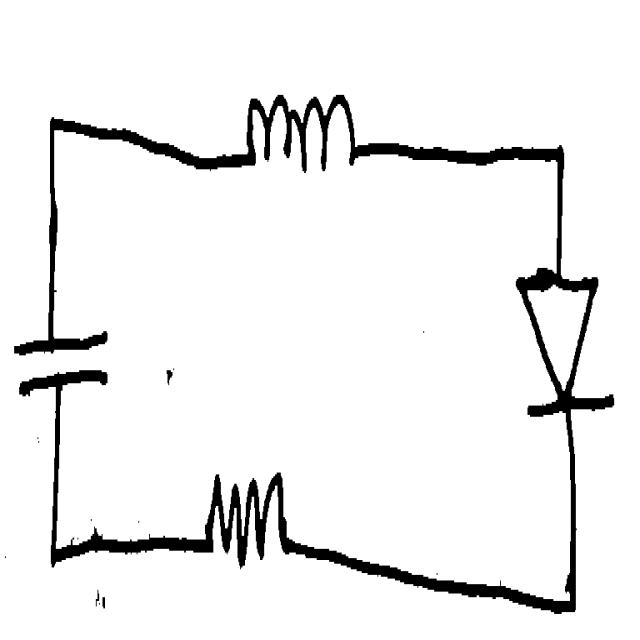capacitor: (10, 318, 120, 423)
diode: (509, 245, 624, 436)
inductor: (241, 85, 360, 194)
resistor: (198, 442, 294, 586)
